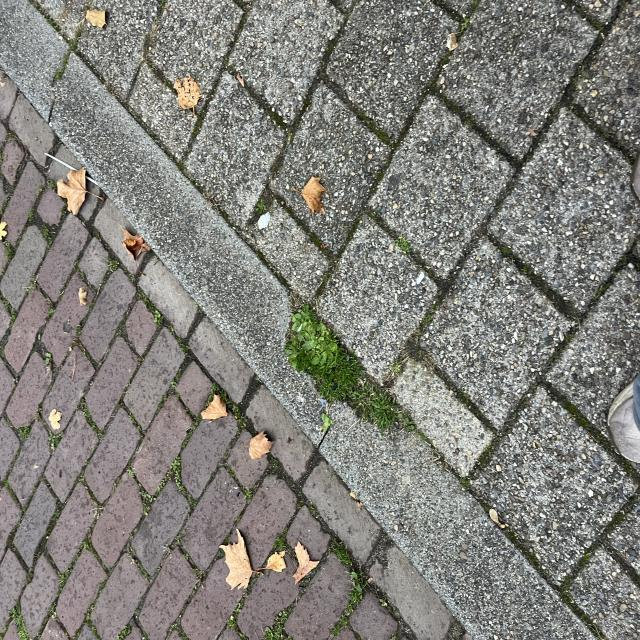leaves: (43, 300, 82, 336), (327, 78, 352, 126), (398, 232, 424, 268), (452, 113, 476, 147), (164, 272, 182, 305), (137, 328, 153, 363), (326, 406, 346, 430), (158, 68, 171, 80)
pavement: (0, 553, 480, 640)
weedling: (3, 39, 173, 109)
